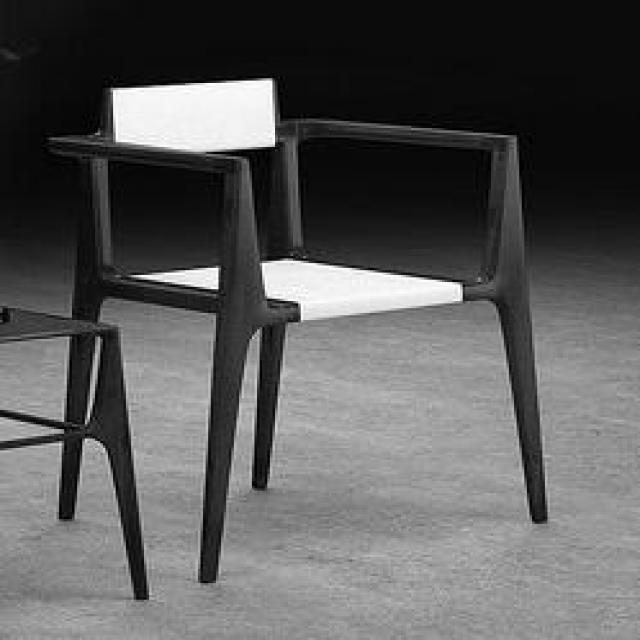chair: (42, 72, 554, 580)
